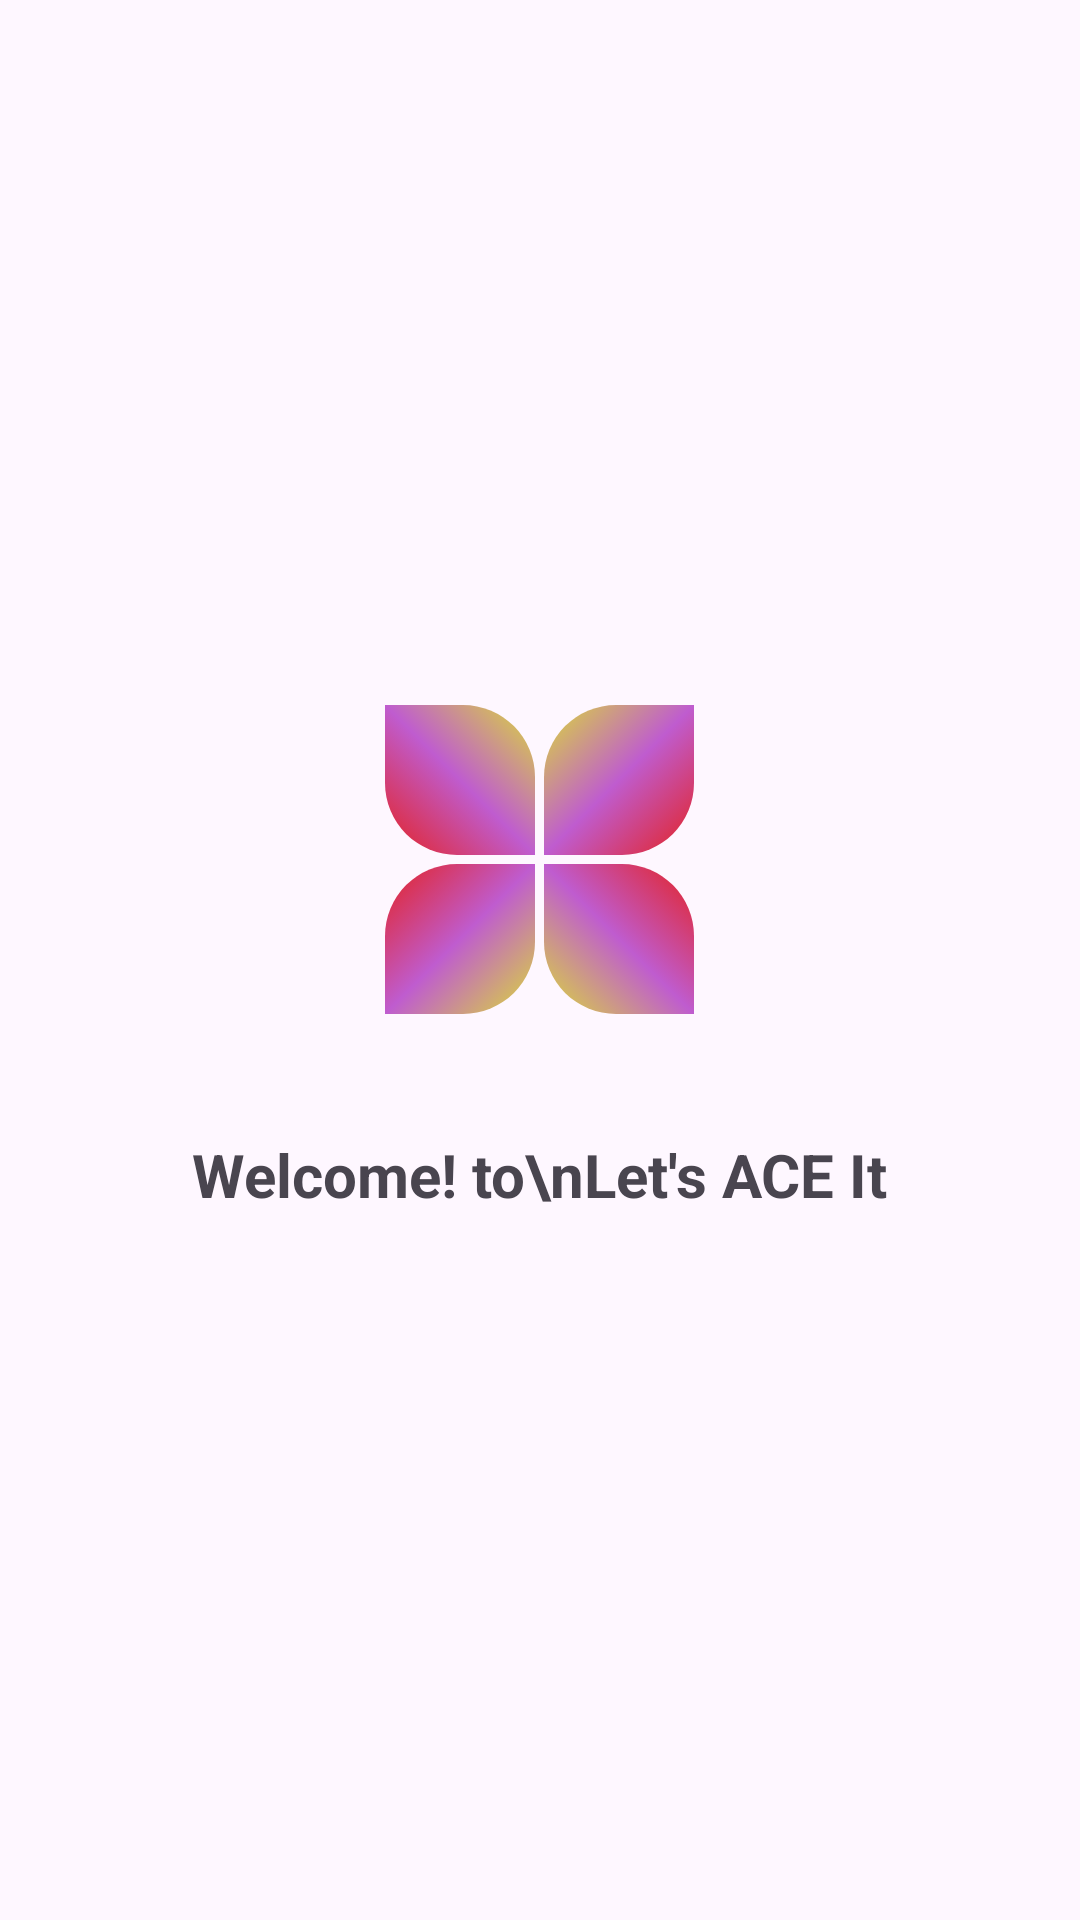

Screen size 1080px x 1920px. Icon name, then its center in pixels as point (x, y):
petal: point (460, 780), point (619, 780), point (460, 939), point (619, 939)
